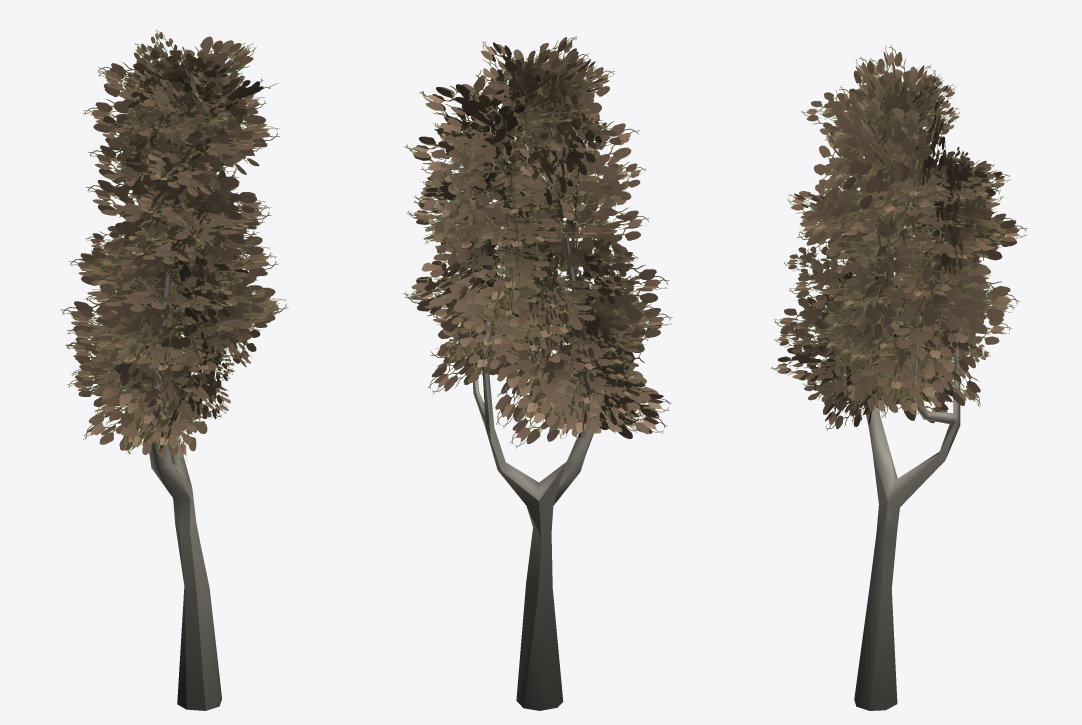
Rendered from Tree_2A.fbx.
3 renders of one model, left to right at view 1: azimuth 30°, elevation 25°; view 2: azimuth 150°, elevation 25°; view 3: azimuth 270°, elevation 25°, orthographic. The views are drawn at different scales.
Visible parts, largest first — view 1: Tree_2A; view 2: Tree_2A; view 3: Tree_2A.
Boxes of the visible parts, x1,y1,x2,y2 form: Tree_2A: (61,30,288,710); Tree_2A: (402,36,672,710); Tree_2A: (770,45,1027,710).
Bounding box in the file's own units: 544 × 1163 × 527.
